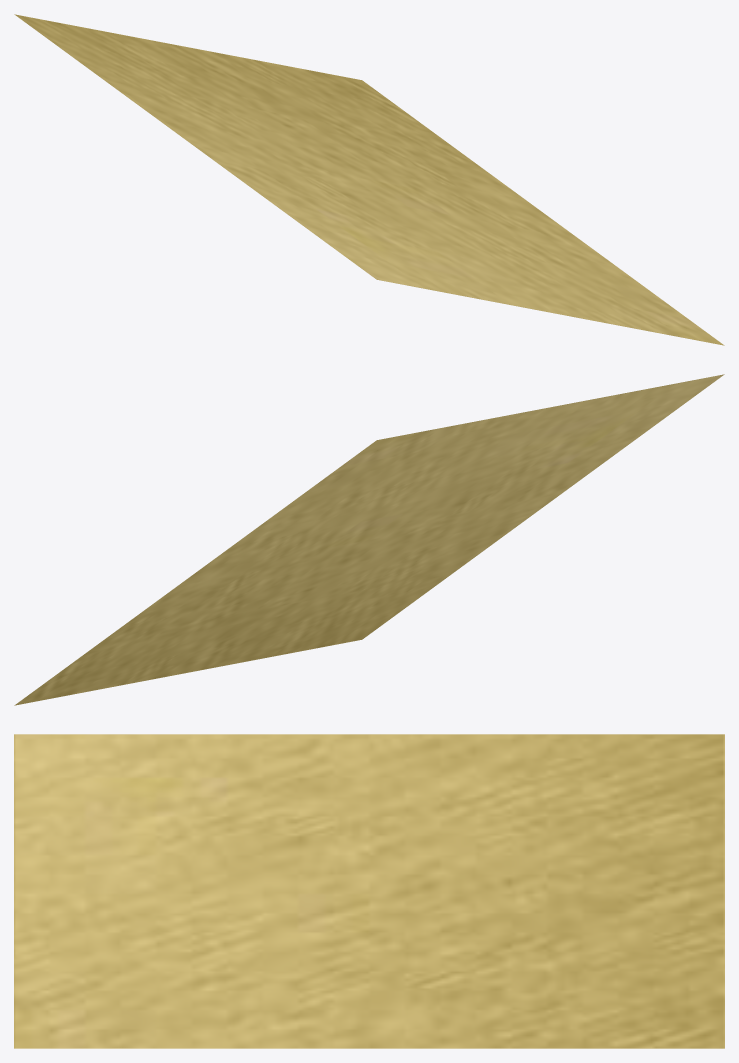
The picture shows the model from 3 angles, top to bottom: view 1: azimuth 30°, elevation 25°; view 2: azimuth 150°, elevation 25°; view 3: azimuth 270°, elevation 25°; orthographic projection. The views are drawn at different scales.
Visible parts, largest first — view 1: 4_base__material_5_36_8; view 2: 4_base__material_5_36_8; view 3: 4_base__material_5_36_8.
Boxes of the visible parts, x1,y1,x2,y2 form: 4_base__material_5_36_8: (14, 14, 724, 345); 4_base__material_5_36_8: (14, 374, 724, 705); 4_base__material_5_36_8: (14, 734, 724, 1048).
Bounding box in the file's own units: 0.000383 × 0.000159 × 0.000691.
1 material, 1 textured.
